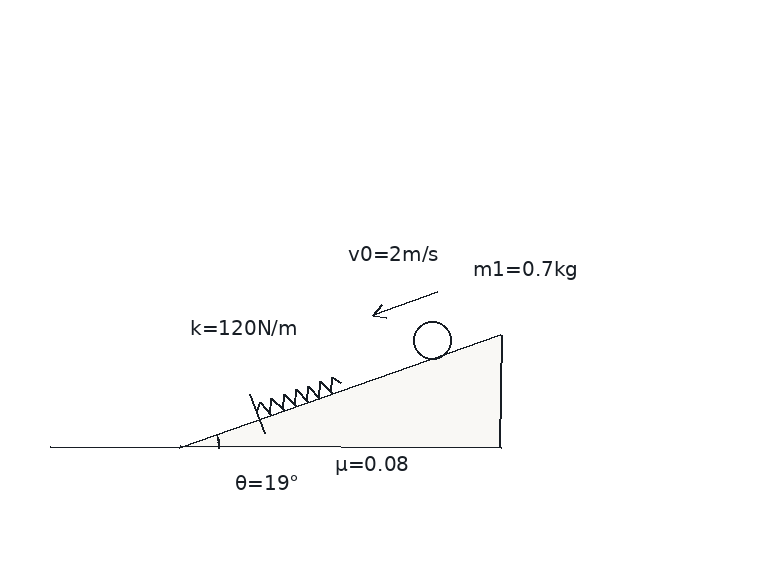ball: (411, 319, 453, 361)
ramp: (177, 334, 502, 449)
spring: (254, 375, 342, 415)
